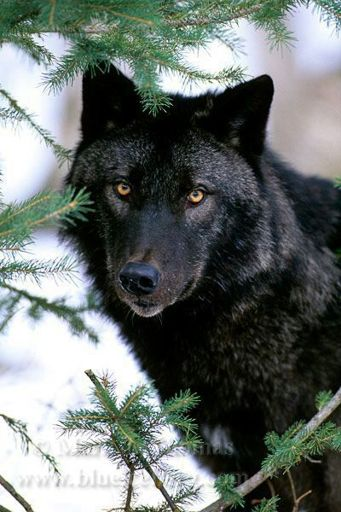Lobo: (30, 37, 334, 428)
